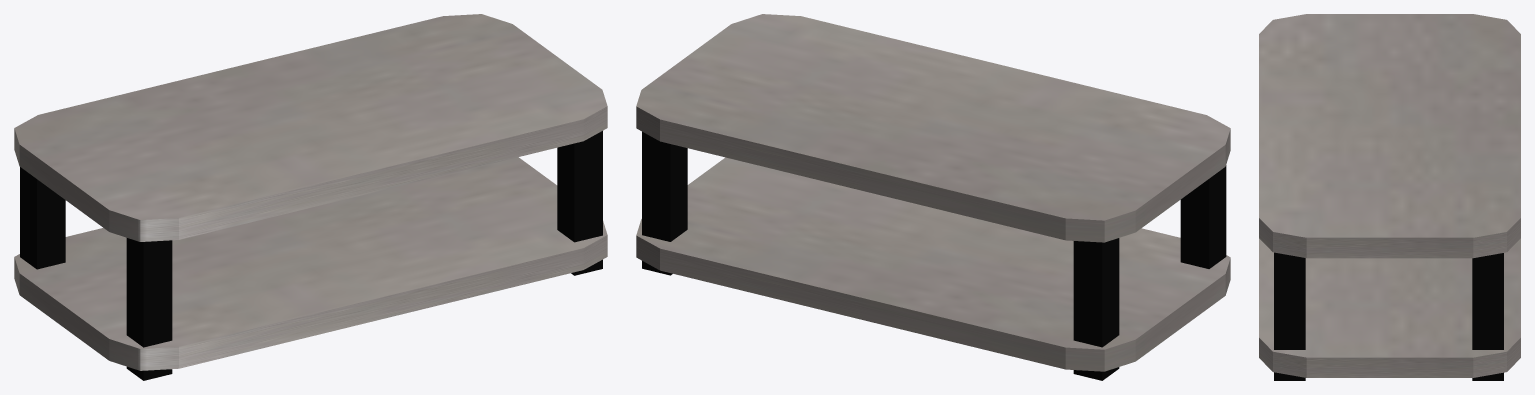
The model's file is table.glb.
3 views of the same model, side by side, from view 1: azimuth 30°, elevation 25°; view 2: azimuth 150°, elevation 25°; view 3: azimuth 270°, elevation 25° (orthographic). The views are drawn at different scales.
Visible parts, largest first — view 1: Table; view 2: Table; view 3: Table.
Boxes of the visible parts, bbox=[...] form: Table: bbox=[14, 14, 607, 380]; Table: bbox=[636, 14, 1230, 380]; Table: bbox=[1259, 14, 1520, 380].
Size of the model in its own units: 4.01 by 1.26 by 1.98.
2 materials, 1 textured.
